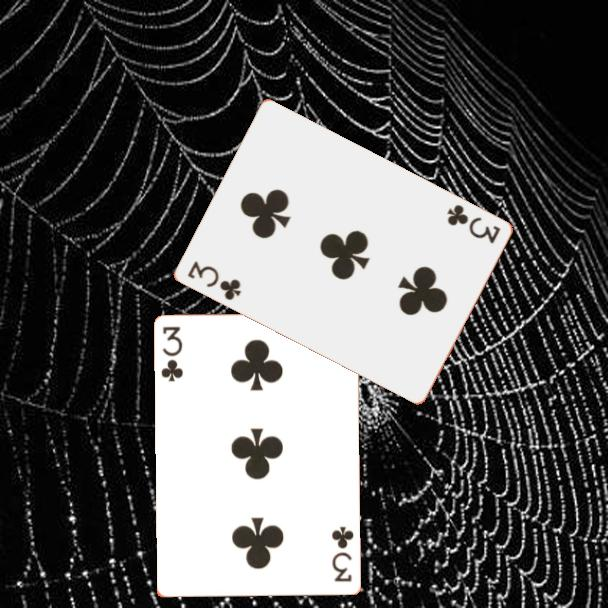c03: (183, 257, 244, 303), (443, 201, 503, 247), (329, 523, 357, 585), (158, 323, 186, 384)
